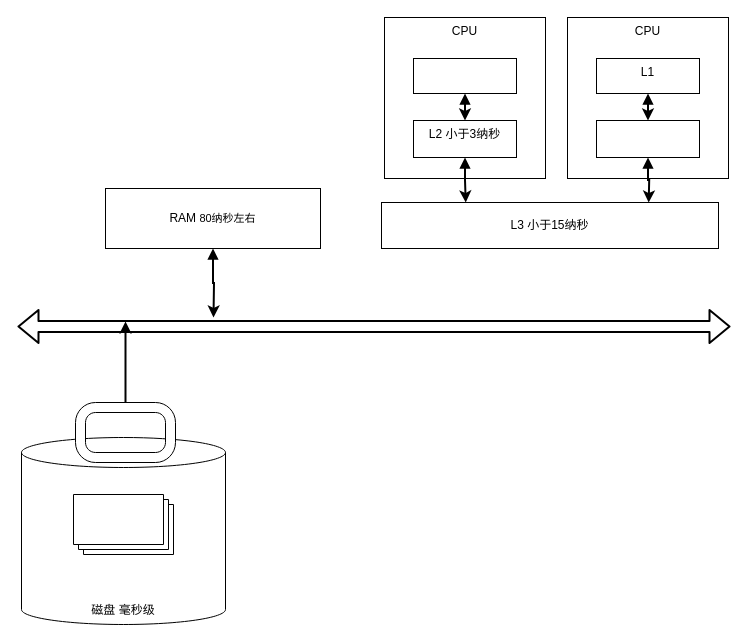
The diagram is 747 pixels wide and 642 high, and some of its shapes have lost their labels. Each missing label, with the box of its shape:
buffer: (74, 402, 176, 462)
L1 小于1纳秒: (412, 58, 516, 94)
L2: (596, 120, 700, 158)
扇区: (72, 494, 174, 554)
